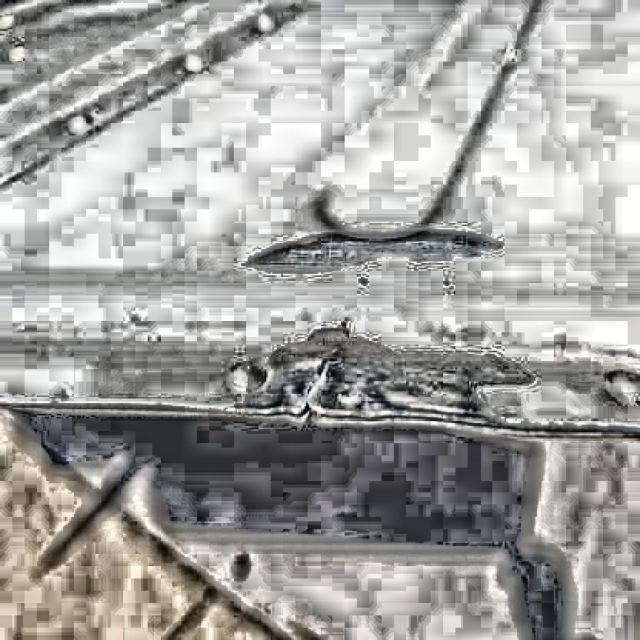crack: (301, 352, 349, 414)
